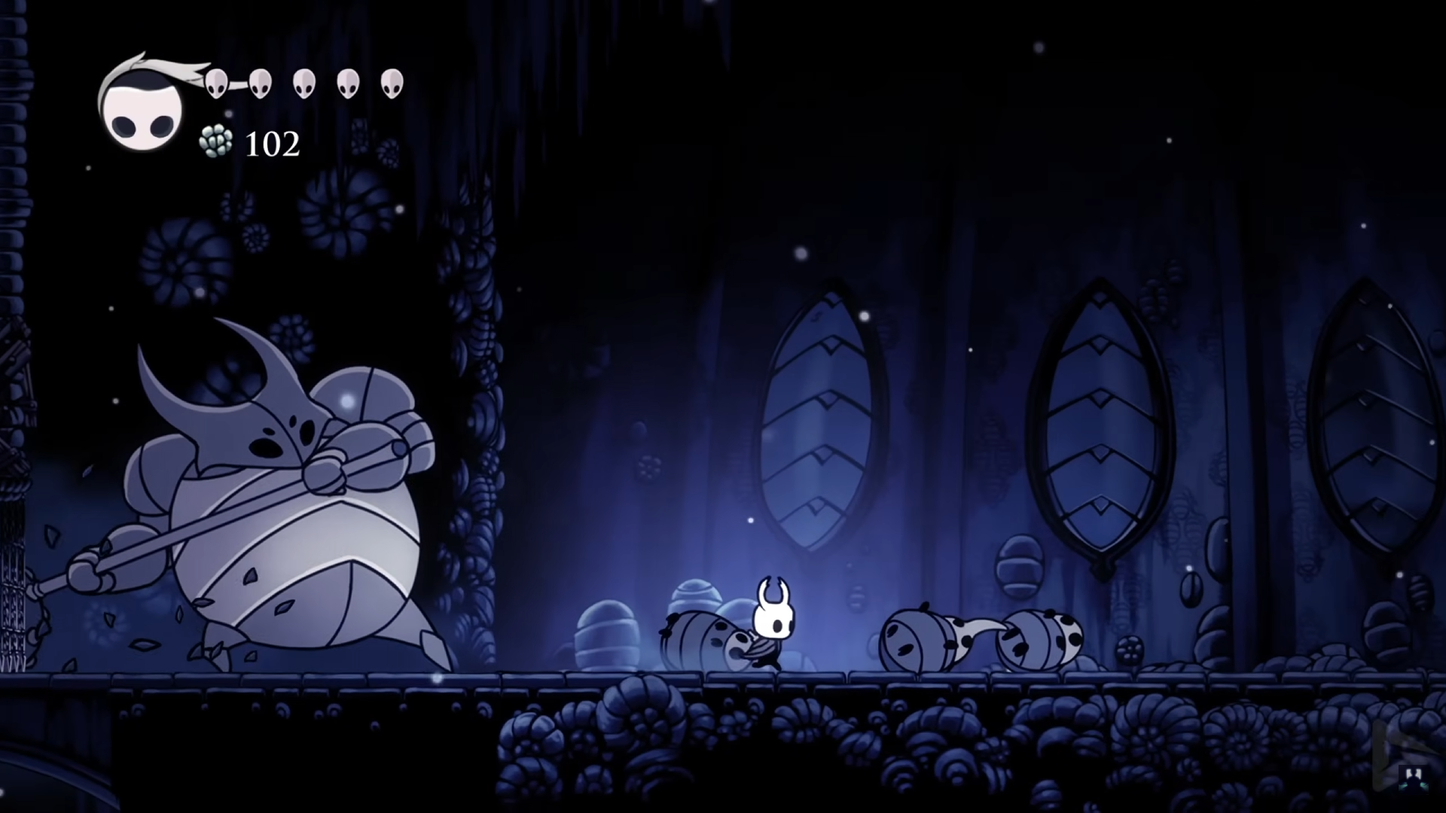HK: (743, 574, 803, 675)
